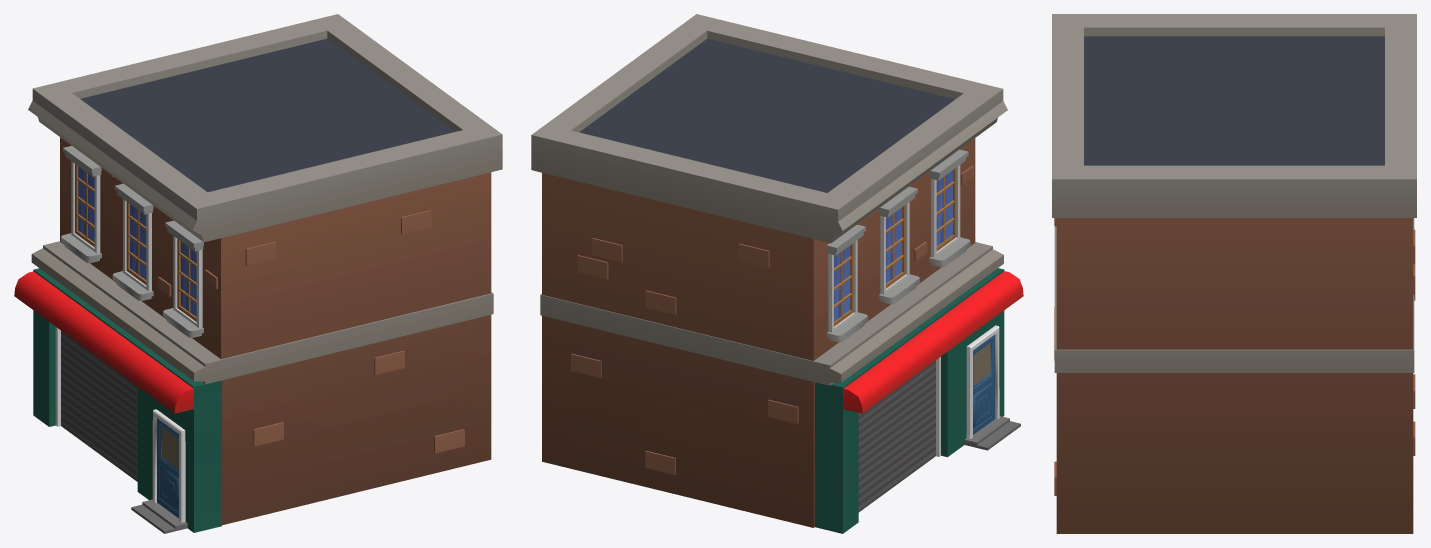
The model's file is Building_19_3_A.fbx.
3 views of the same model, side by side, from view 1: azimuth 30°, elevation 25°; view 2: azimuth 150°, elevation 25°; view 3: azimuth 270°, elevation 25° (orthographic). The views are drawn at different scales.
Visible parts, largest first — view 1: Building_19_3_A; view 2: Building_19_3_A; view 3: Building_19_3_A.
Boxes of the visible parts, left/top/right/bottom form: Building_19_3_A: left=14, top=14, right=502, bottom=533; Building_19_3_A: left=531, top=14, right=1023, bottom=533; Building_19_3_A: left=1052, top=14, right=1416, bottom=533.
Size of the model in its own units: 774 by 726 by 667.
